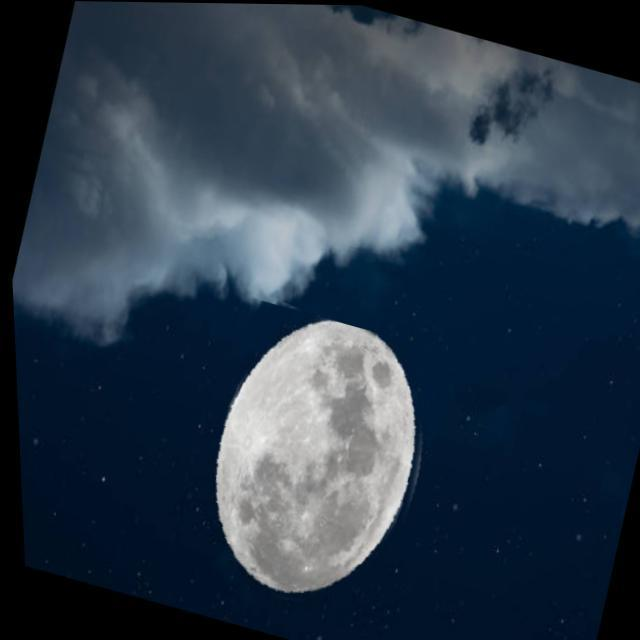moon: (171, 295, 461, 640)
